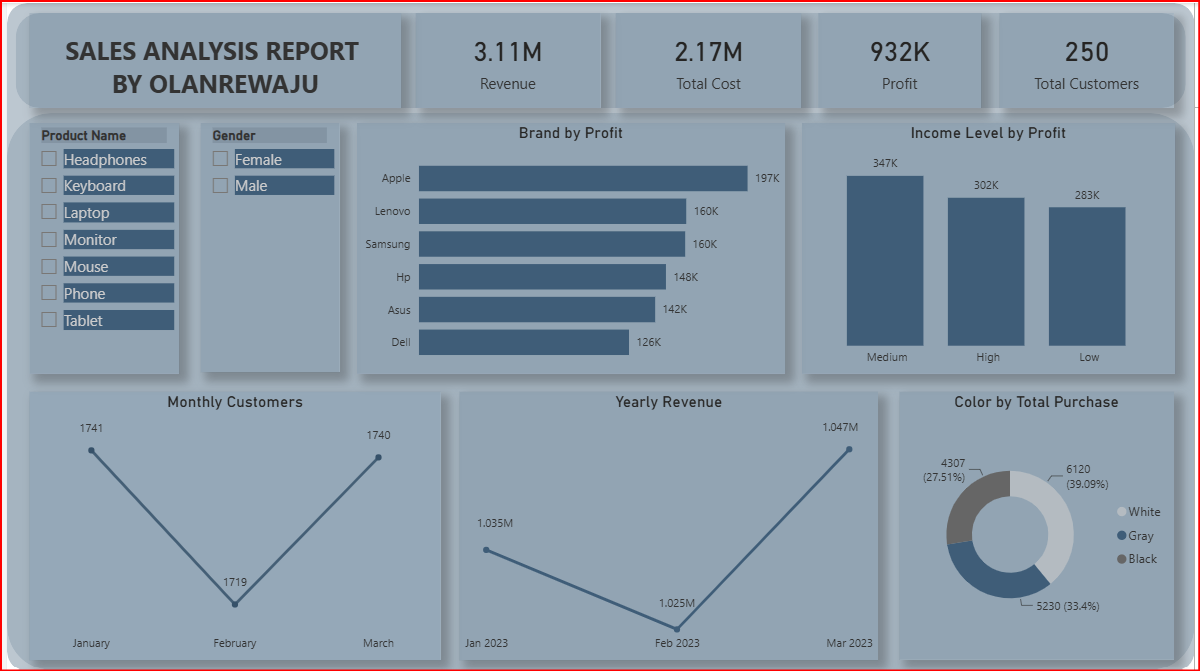

Layout of this report page (visuals, bound fields, positions):
{"tool":"powerbi","page":{"name":"Dashboard","canvas":[1280,720],"ordinal":1},"visuals":[{"type":"shape","box":[0,0,1280.3,720.8],"z":0},{"type":"shape","box":[9.4,10.8,1261.4,102.4],"z":1000},{"type":"shape","box":[0,118.3,1280.3,601.1],"z":2000},{"type":"barChart","title":"Brand by Profit","fields":{"Category":["Products.Brand"],"Y":["Sales.Profit"]},"box":[377.9,129.1,461.3,270.3],"z":3000},{"type":"columnChart","title":"Income Level by Profit","fields":{"Category":["Customers.IncomeLevel"],"Y":["Sales.Profit"]},"box":[856.7,129.1,402.1,270.3],"z":4000},{"type":"donutChart","title":"Color by Total Purchase","fields":{"Category":["Products.Color"],"Y":["Sales.Total Purchase"]},"box":[962.9,419.6,295.9,289.1],"z":5000},{"type":"lineChart","title":"Yearly Revenue","fields":{"Category":["Sales.SaleDate.Variation.Date Hierarchy.Year","Sales.SaleDate.Variation.Date Hierarchy.Month"],"Y":["Sales.Revenue"]},"box":[487.9,419.1,451.5,289.7],"z":6000},{"type":"slicer","fields":{"Values":["Products.ProductName"]},"box":[24.2,129.1,161.4,270.3],"z":7000},{"type":"slicer","fields":{"Values":["Customers.Gender"]},"box":[208.4,129.1,149.3,269],"z":8000},{"type":"card","fields":{"Values":["Sales.Total Customers"]},"box":[1070.5,10.8,188.3,102.2],"z":9000},{"type":"card","fields":{"Values":["Sales.Total Cost"]},"box":[656.3,10.8,200.4,102.2],"z":10000},{"type":"card","fields":{"Values":["Sales.Revenue"]},"box":[441.1,10.8,199,102.2],"z":11000},{"type":"card","fields":{"Values":["Sales.Profit"]},"box":[874.1,10.8,176.2,102.2],"z":12000},{"type":"textbox","box":[24.2,10.8,400.8,102.2],"z":13000},{"type":"lineChart","title":"Monthly Customers","fields":{"Category":["Sales.SaleDate.Variation.Date Hierarchy.Month"],"Y":["Sales.Total Transaction"]},"box":[24.3,419.1,443.4,289.7],"z":14000}]}

Visuals, with their boxes in screenshot pixels (x1, y1, x2, y2), scaled from the page's 1280x720 canvas onto the 1200x671 screenshot:
shape: crop(0, 0, 1199, 670)
shape: crop(9, 10, 1191, 105)
shape: crop(0, 110, 1199, 670)
"Brand by Profit" barChart: crop(354, 120, 787, 372)
"Income Level by Profit" columnChart: crop(803, 120, 1180, 372)
"Color by Total Purchase" donutChart: crop(903, 391, 1180, 660)
"Yearly Revenue" lineChart: crop(457, 391, 881, 661)
slicer - Products.ProductName: crop(23, 120, 174, 372)
slicer - Customers.Gender: crop(195, 120, 335, 371)
card - Sales.Total Customers: crop(1004, 10, 1180, 105)
card - Sales.Total Cost: crop(615, 10, 803, 105)
card - Sales.Revenue: crop(414, 10, 600, 105)
card - Sales.Profit: crop(819, 10, 985, 105)
textbox: crop(23, 10, 398, 105)
"Monthly Customers" lineChart: crop(23, 391, 438, 661)
